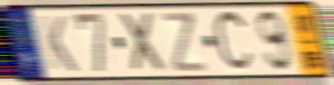7: (71, 12, 109, 75)
9: (254, 8, 294, 74)
C: (211, 6, 256, 76)
K: (36, 13, 80, 74)
X: (117, 10, 170, 76)
Z: (159, 10, 211, 75)
